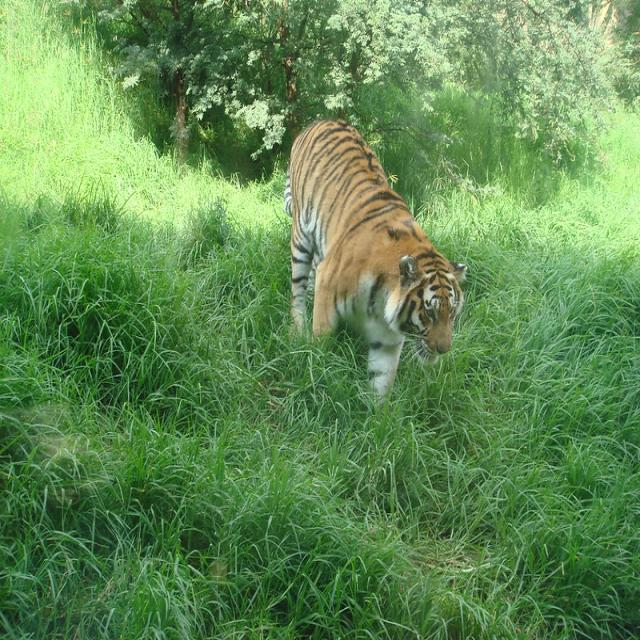Tiger: (279, 114, 465, 421)
